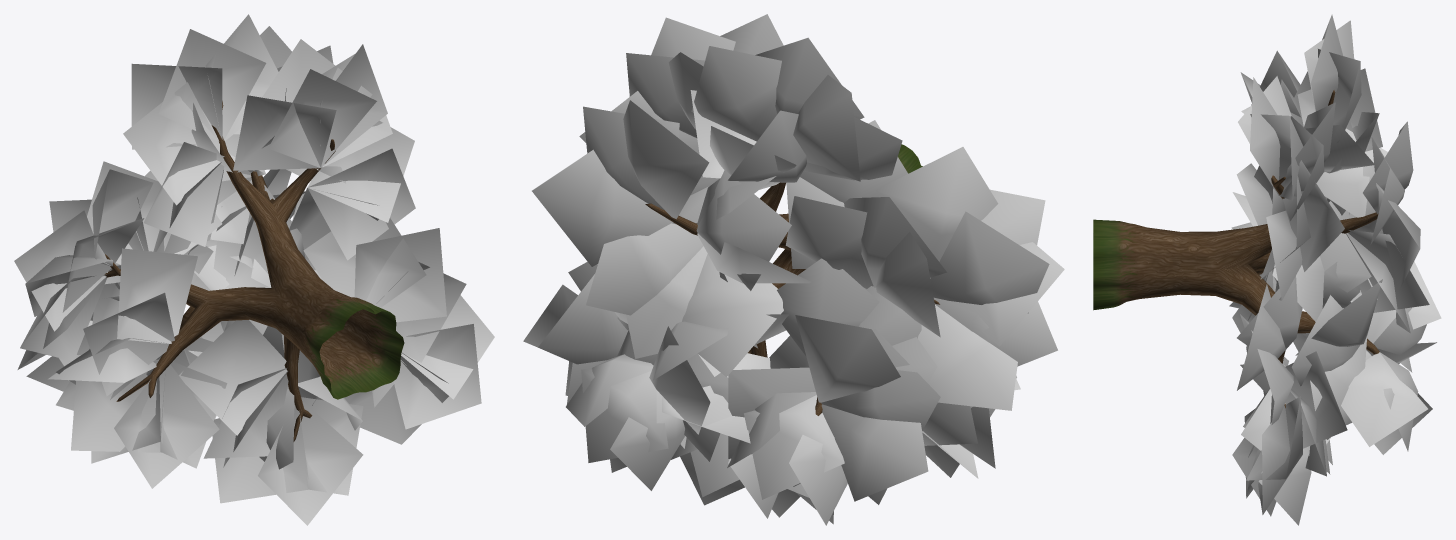
Rendered from Oak_tree1.fbx.
3 renders of one model, left to right at view 1: azimuth 30°, elevation 25°; view 2: azimuth 150°, elevation 25°; view 3: azimuth 270°, elevation 25°, orthographic. The views are drawn at different scales.
Visible parts, largest first — view 1: Oak_tree1; view 2: Oak_tree1; view 3: Oak_tree1.
Boxes of the visible parts, x1,y1,x2,y2 form: Oak_tree1: [14, 14, 494, 525]; Oak_tree1: [523, 14, 1064, 525]; Oak_tree1: [1093, 14, 1441, 525].
Size of the model in its own units: 20.96 by 20.18 by 14.09.
